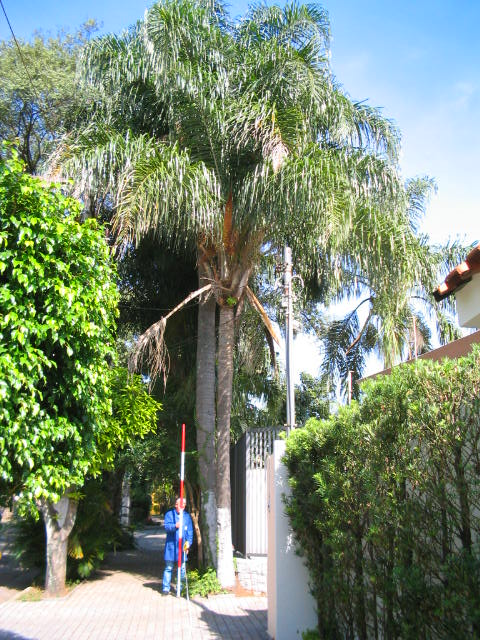crown: (79, 2, 423, 373), (3, 144, 157, 514)
stem: (203, 304, 258, 589), (25, 521, 88, 588)
stick: (166, 422, 193, 600)
tree: (77, 1, 424, 590), (1, 141, 159, 588)
